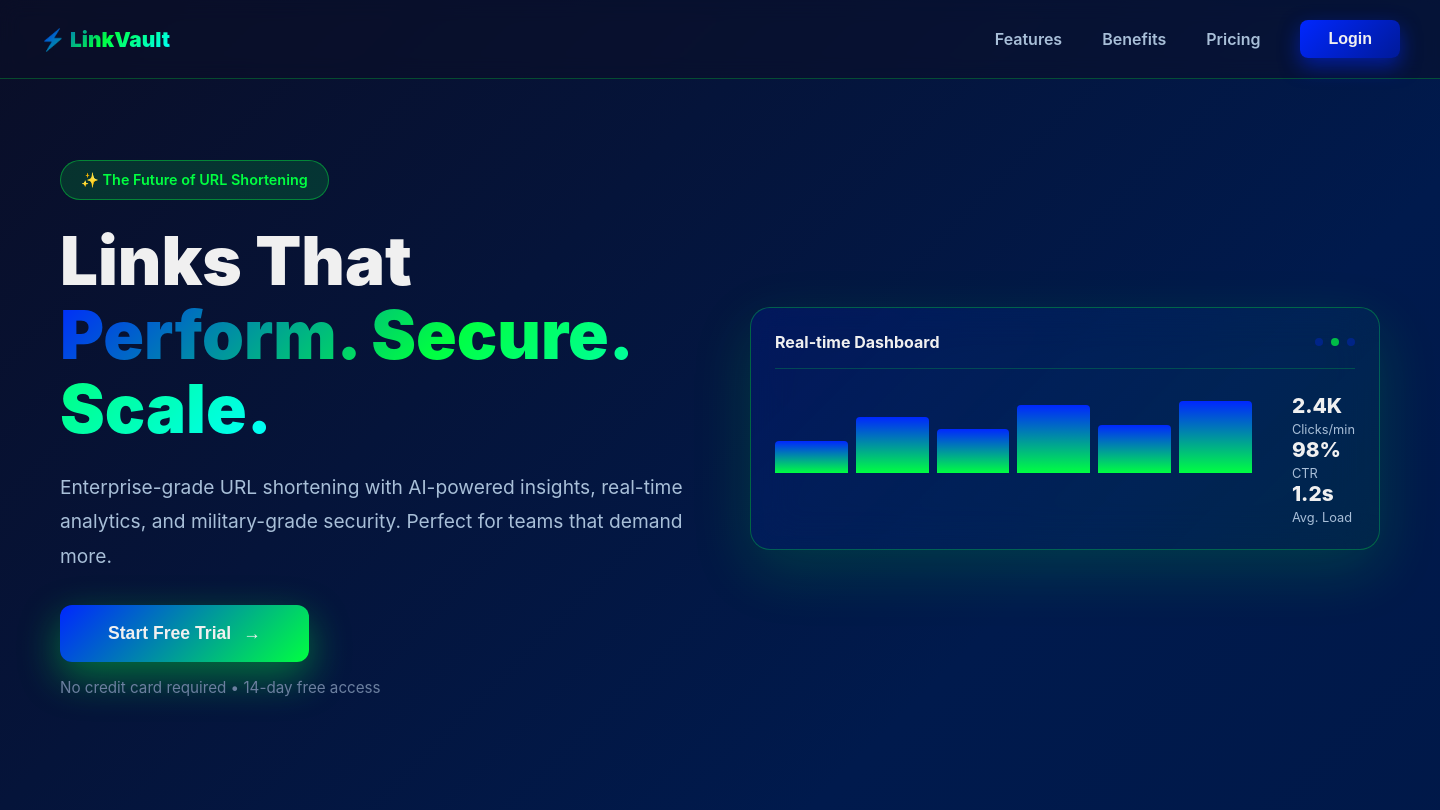
App auth/user flows › shows login and toggles to register form
Check: the text "⚡ LinkVault" is shown, box [40,26,170,52]
Note: Click login button in nav to go to login page
Click the button "Login".
click(1350, 39)  # box [1300,20,1400,58]
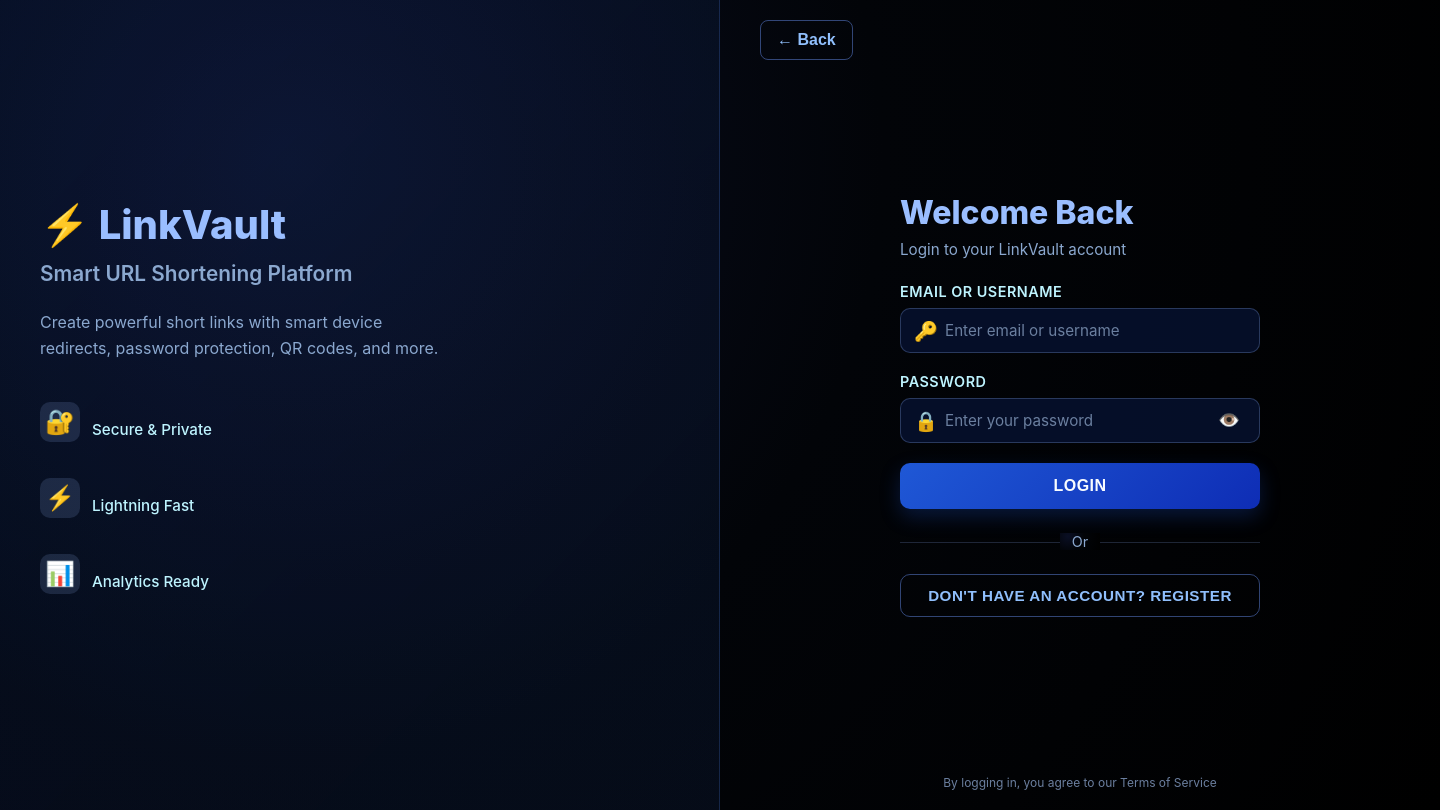
Check: the heading "Welcome Back" is shown, box [900,193,1133,232]
Note: Click toggle to register
Click the button "Don't have an account? Register".
click(1080, 596)  # box [900,574,1260,617]
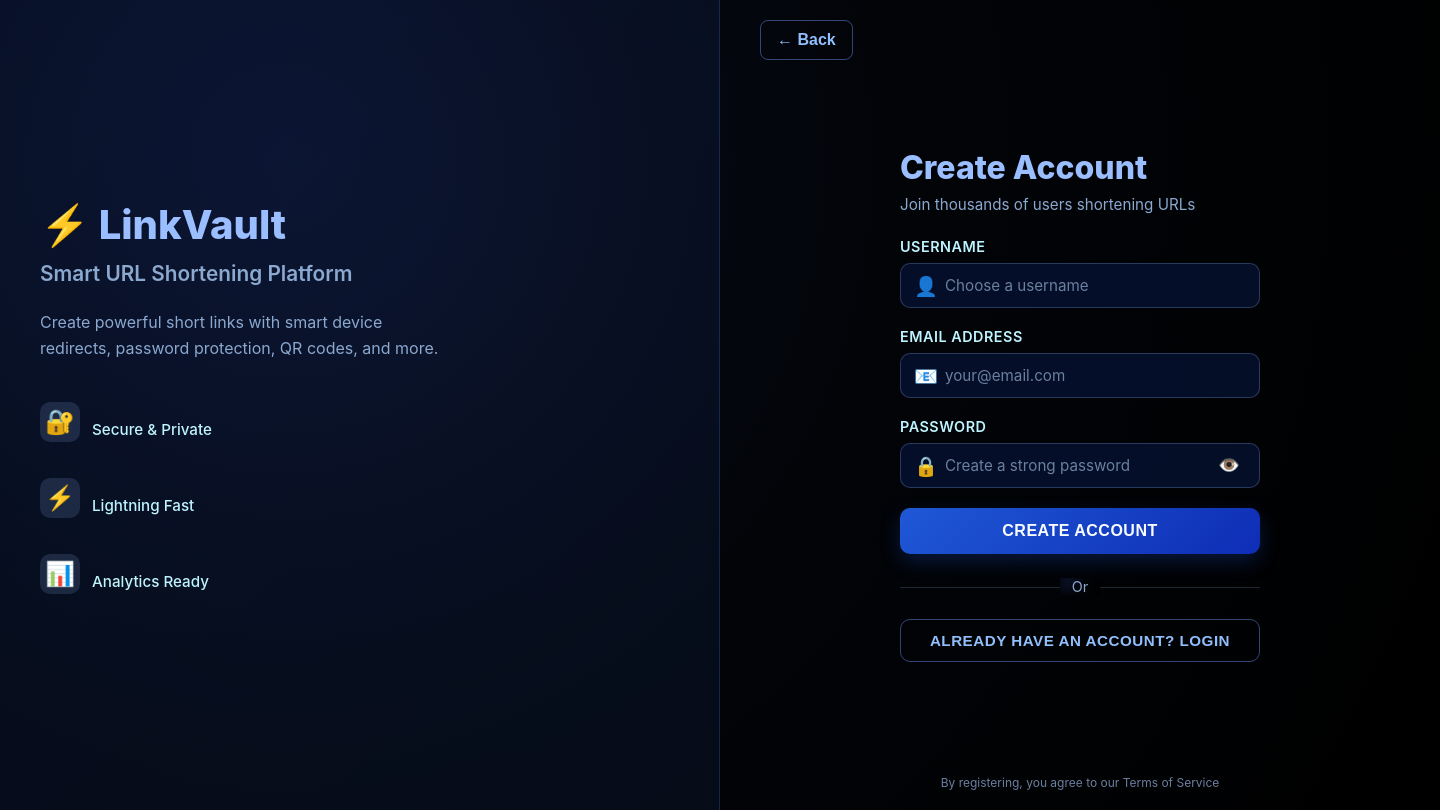
Check: the field with placeholder "Choose a username" is shown, box [900,263,1260,308]
Check: the field with placeholder "your@email.com" is shown, box [900,353,1260,398]
